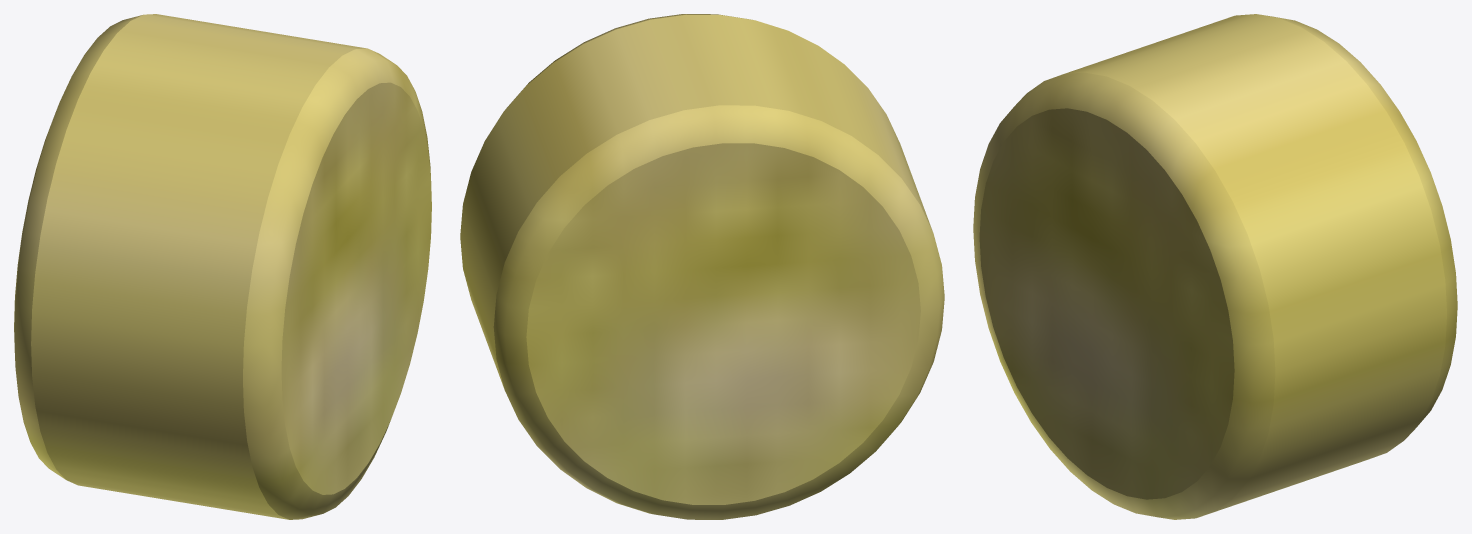
Rendered from original-9.obj.
The picture shows the model from 3 angles, left to right: view 1: azimuth 30°, elevation 25°; view 2: azimuth 150°, elevation 25°; view 3: azimuth 270°, elevation 25°; orthographic projection. The views are drawn at different scales.
Parts seen in each view (by area): view 1: Component_3_1/Component_3/mesh2/mesh2-geometry#mesh2-geometry; view 2: Component_3_1/Component_3/mesh2/mesh2-geometry#mesh2-geometry; view 3: Component_3_1/Component_3/mesh2/mesh2-geometry#mesh2-geometry.
Part boxes in pixels (<box>): Component_3_1/Component_3/mesh2/mesh2-geometry#mesh2-geometry: <box>14,14,431,519</box>; Component_3_1/Component_3/mesh2/mesh2-geometry#mesh2-geometry: <box>460,14,944,519</box>; Component_3_1/Component_3/mesh2/mesh2-geometry#mesh2-geometry: <box>973,14,1457,519</box>.
Size of the model in its own units: 0.1227 by 0.1112 by 0.116.
